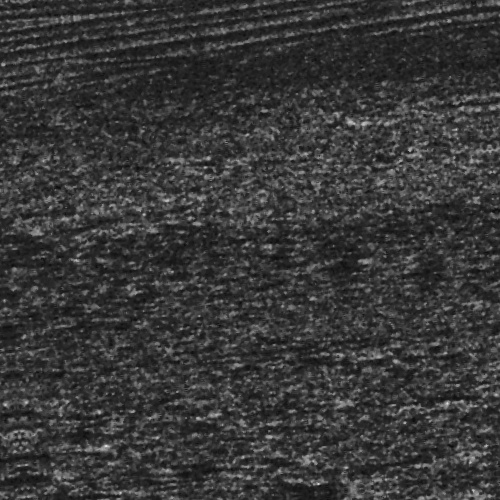shadow: (464, 122, 500, 129)
